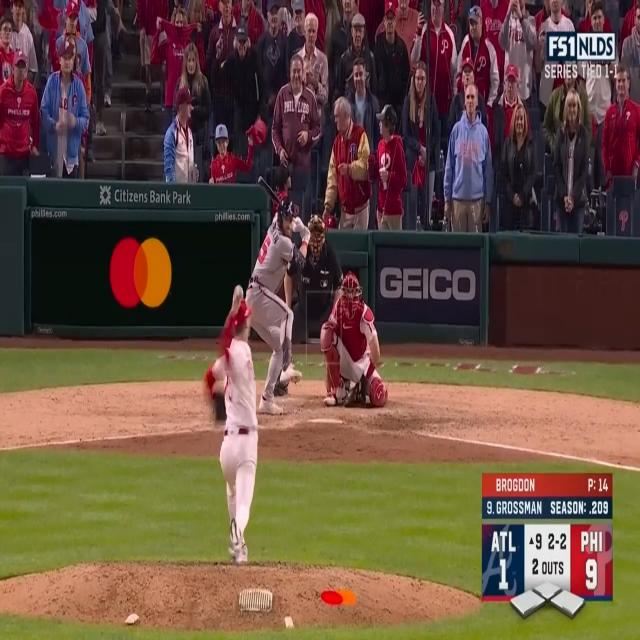baseball: (234, 283, 244, 300)
